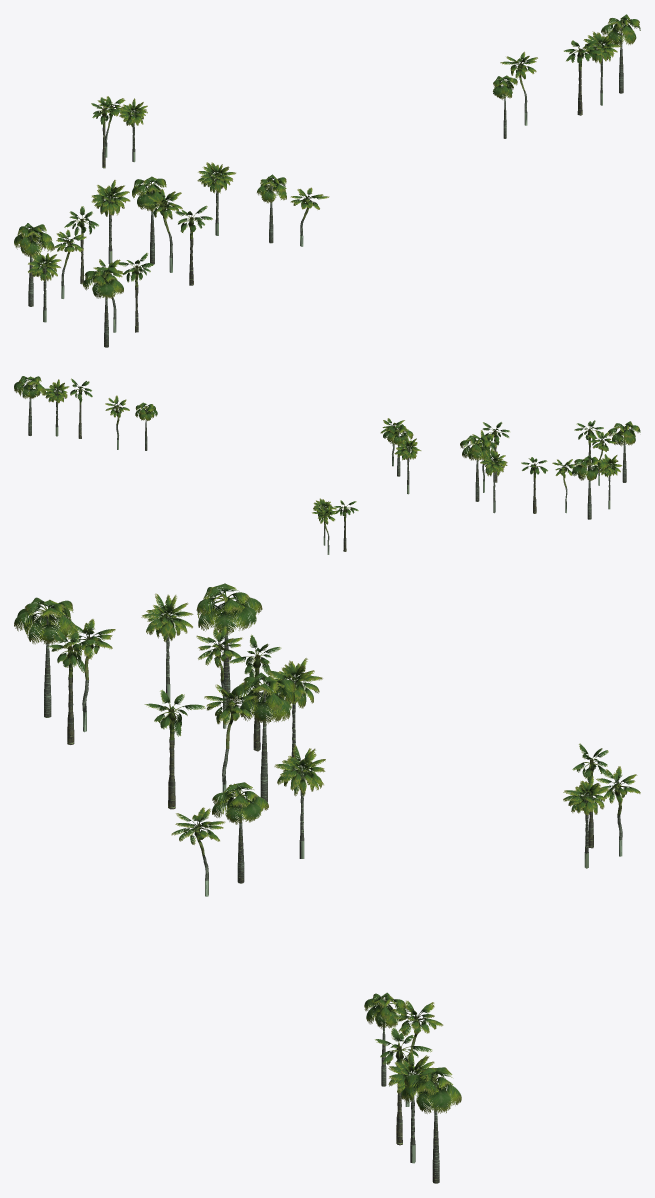
3 views of the same model, one above another, from view 1: azimuth 30°, elevation 25°; view 2: azimuth 150°, elevation 25°; view 3: azimuth 270°, elevation 25° (orthographic). The views are drawn at different scales.
Visible parts, largest first — view 1: Dragonfly Lake palm grove; view 2: Dragonfly Lake palm grove; view 3: Dragonfly Lake palm grove.
Part boxes in pixels (x1=…): Dragonfly Lake palm grove: x1=14, y1=14, x2=640, y2=347; Dragonfly Lake palm grove: x1=14, y1=376, x2=640, y2=554; Dragonfly Lake palm grove: x1=14, y1=583, x2=640, y2=1183.
Size of the model in its own units: 126 by 14.3 by 65.83.
1 material, 1 textured.
